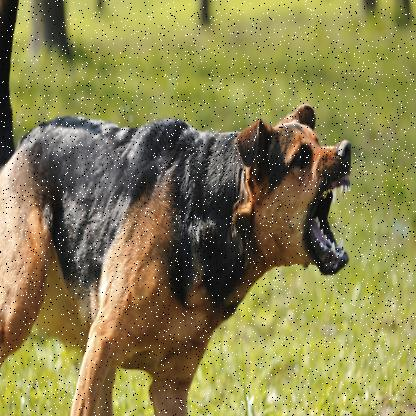dog: (6, 95, 356, 406)
